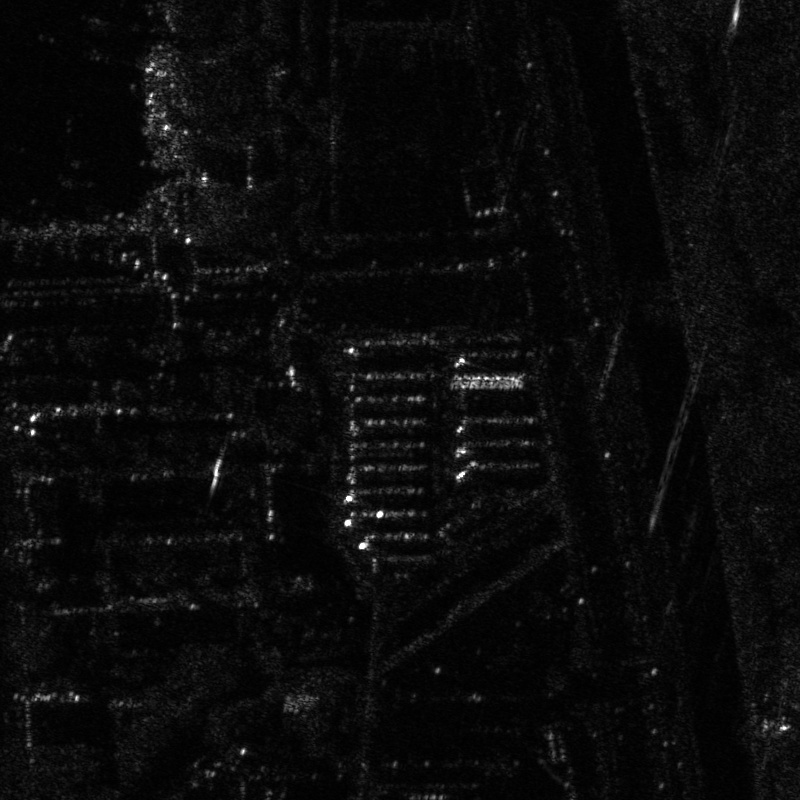Boeing787: (1, 109, 103, 215)
